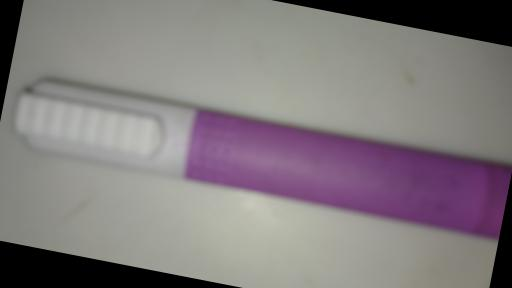Highlighter: (3, 67, 512, 250)
